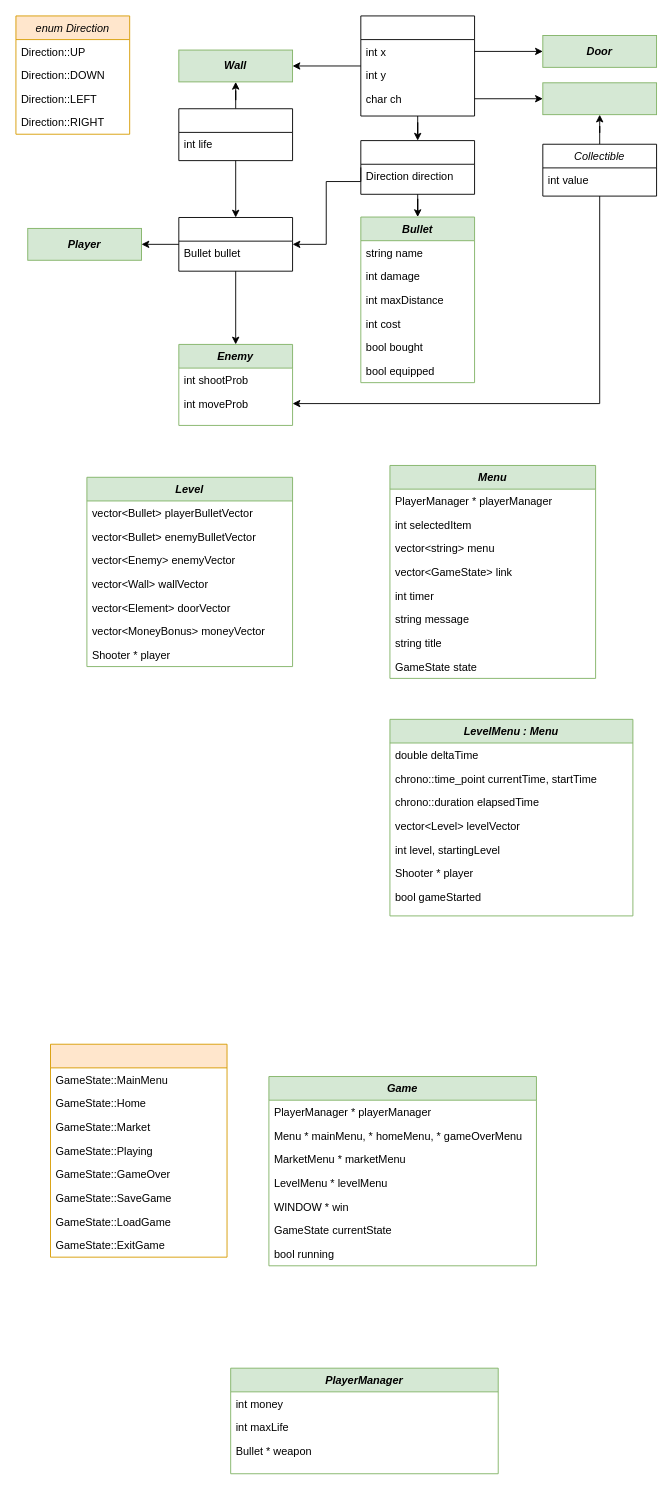
Some shapes in this 672 by 1490 pixel diagram are drawn without their labels. Here are the shapes that lost their labels. From the top down, the box of each, then its label:
(360, 15, 475, 116): Element
(542, 82, 657, 115): MoneyBonus
(178, 108, 293, 161): Destructible
(360, 140, 475, 194): Movable
(178, 217, 293, 271): Shooter
(50, 1043, 227, 1257): enum GameState
